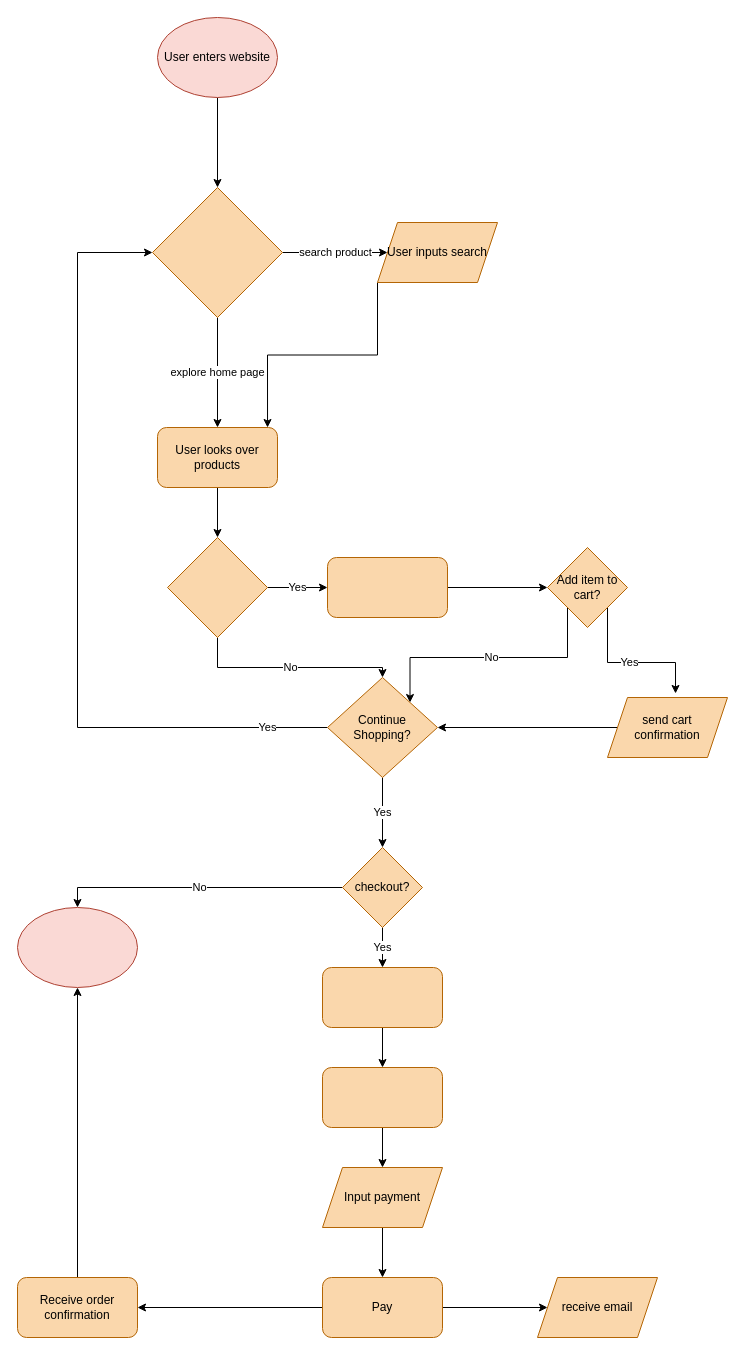
The diagram is 745 pixels wide and 1355 high, and some of its shapes have lost their labels. The centre of each missing label's shape, as x and y in pixels:
Open product webpage: (x=387, y=587)
Search product or explore home page: (x=217, y=252)
User leaves website: (x=77, y=947)
View Cart screen: (x=382, y=997)
View Payment screen: (x=382, y=1097)
View specific product?: (x=217, y=587)
